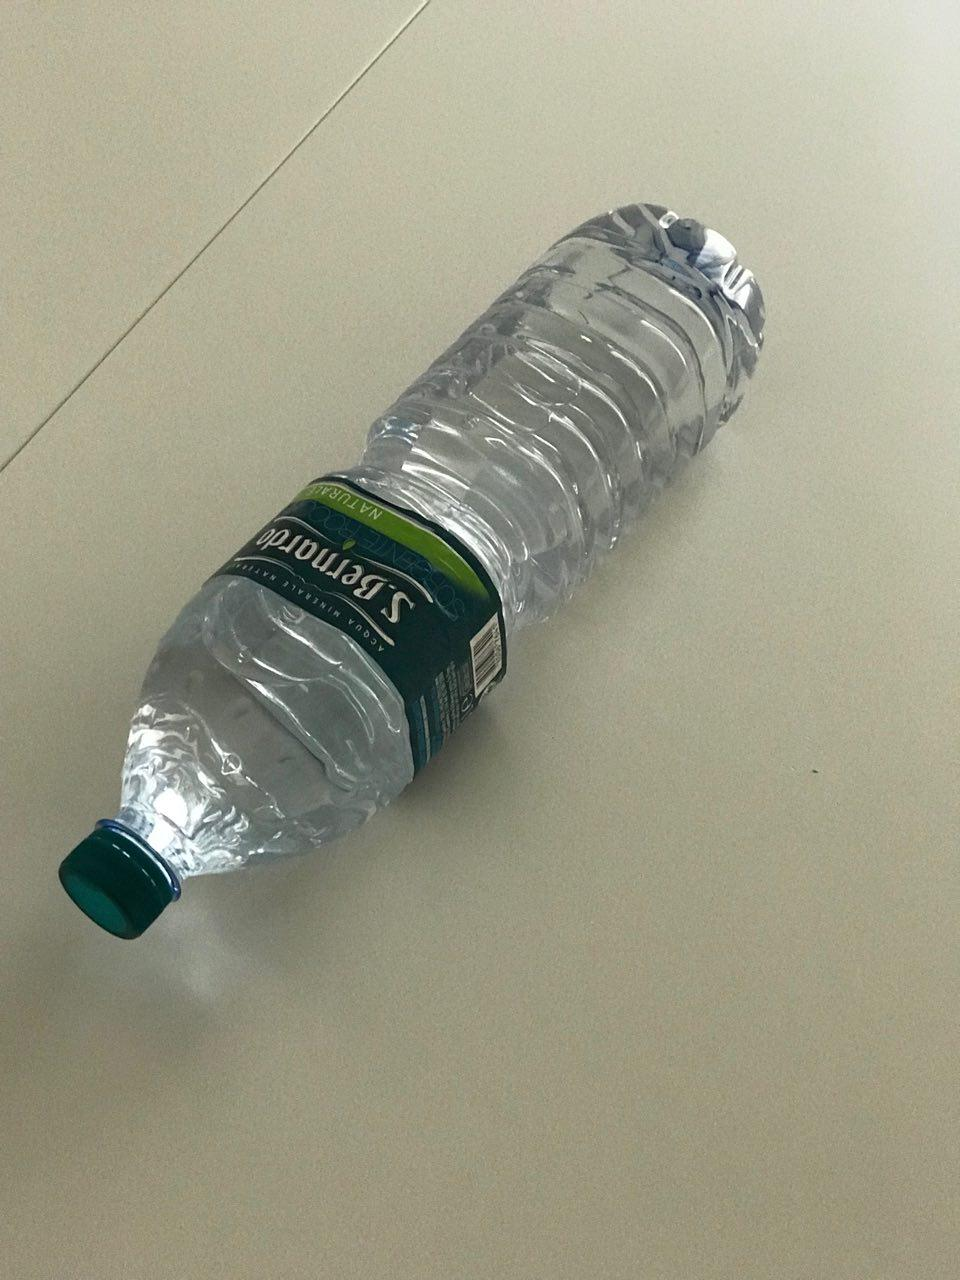san_bernardo: (57, 200, 769, 940)
